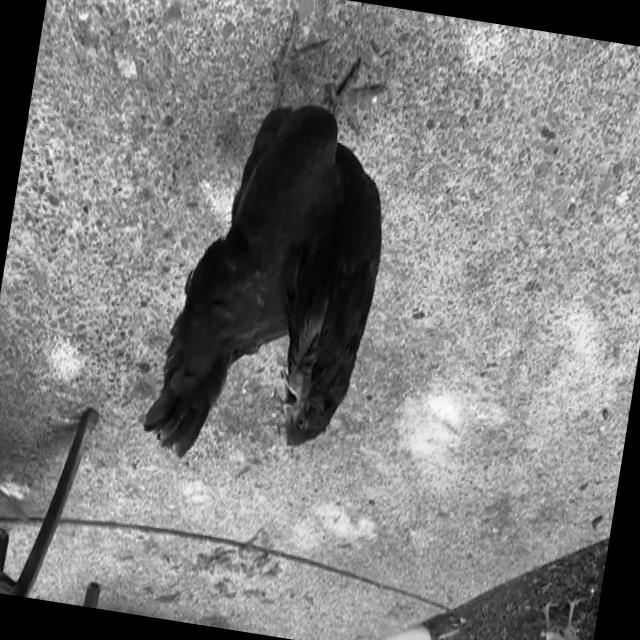Breathing: (138, 0, 418, 487)
